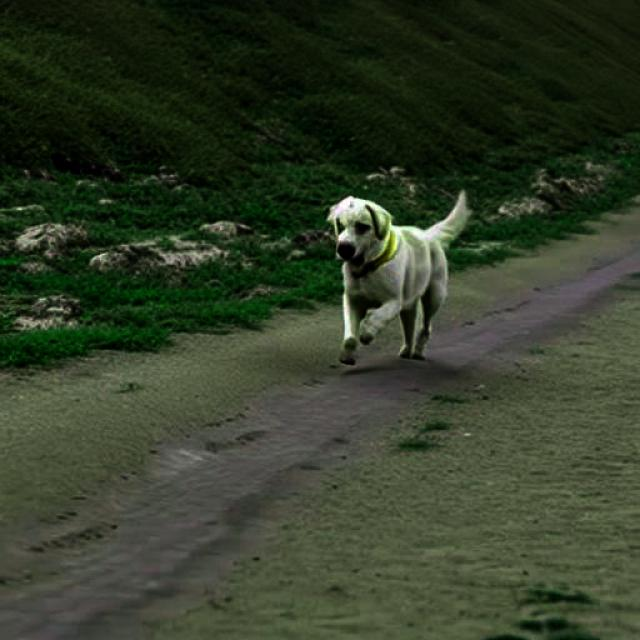Dog: (325, 188, 469, 366)
